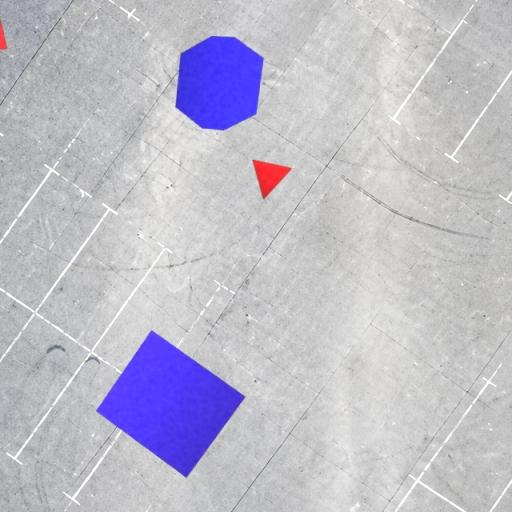BLUE_SQUARE: (96, 330, 246, 478)
